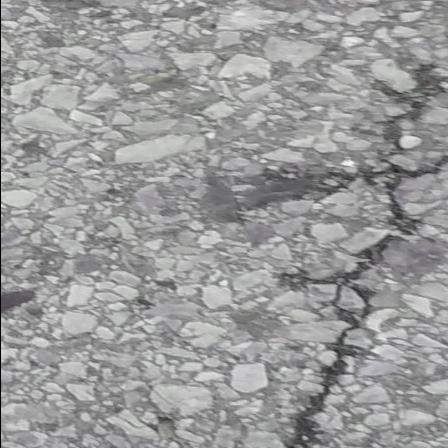crack: (157, 14, 448, 448)
